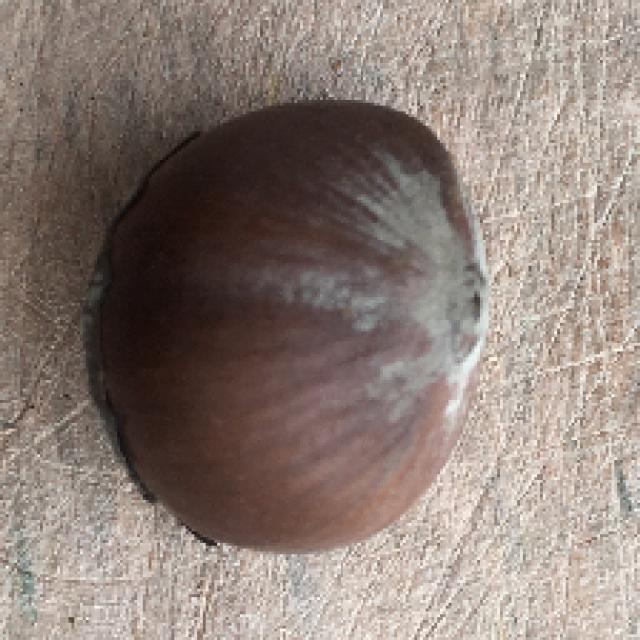damagedHazelnut: (79, 88, 502, 562)
